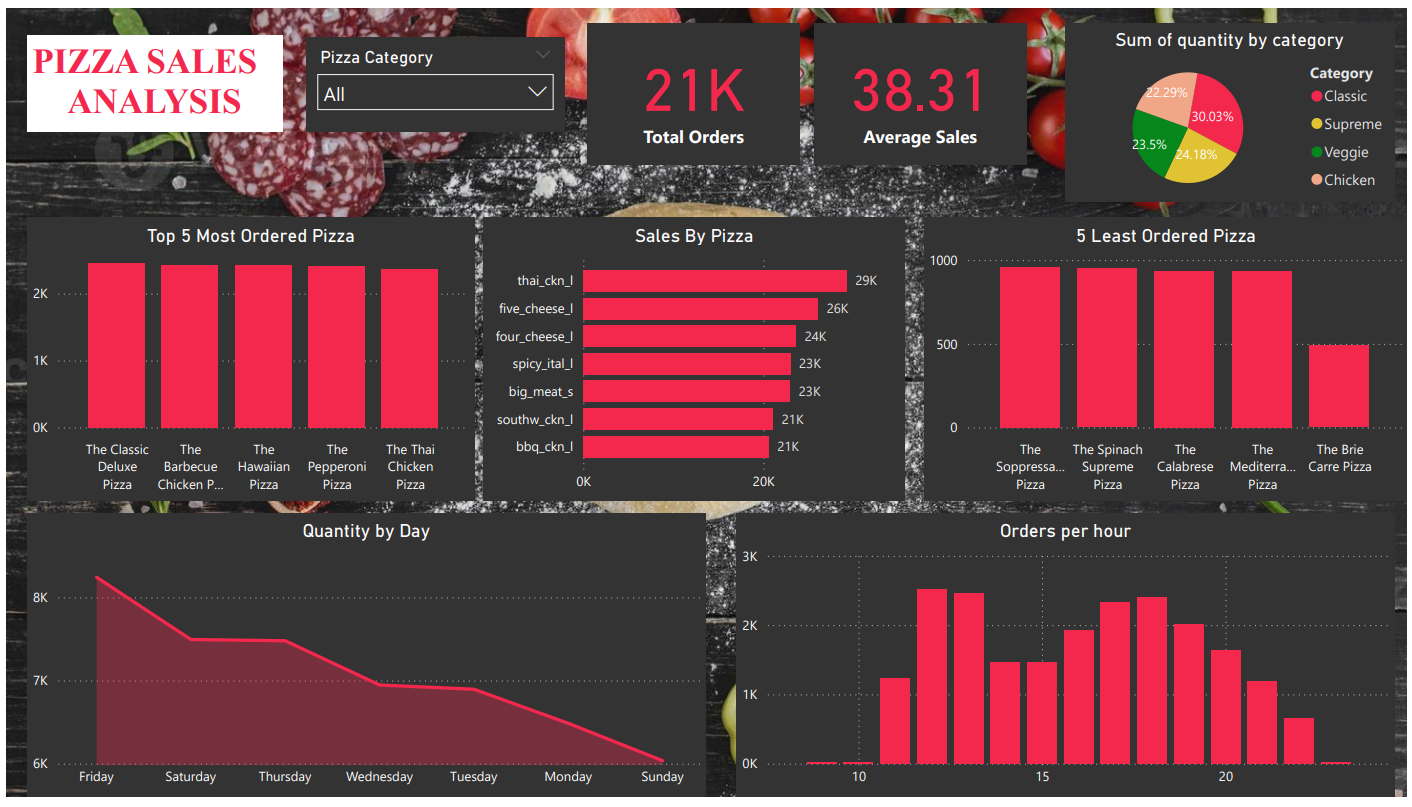

The page's visual inventory and layout, read from the dashboard file:
{"tool":"powerbi","page":{"name":"Page 1","canvas":[1280,720],"ordinal":0},"visuals":[{"type":"clusteredColumnChart","title":"Orders per hour","fields":{"Category":["orders.order_hour"],"Y":["Count(orders.order_id)"]},"box":[666.9,461.1,601,259.3],"z":0},{"type":"stackedAreaChart","title":"Quantity by Day","fields":{"Category":["orders.day"],"Y":["Sum(order_details.quantity)"]},"box":[19.2,461.1,620.2,259.3],"z":1000},{"type":"card","fields":{"Values":["orders.Total_Orders"]},"box":[531,13.7,193.5,129],"z":2000},{"type":"clusteredColumnChart","title":"Top 5 Most Ordered Pizza","fields":{"Y":["order_details.Total_Orders_By_Pizza_Type"],"Category":["pizza_types.name"]},"box":[19.2,190.7,408.9,259.3],"z":3000},{"type":"clusteredColumnChart","title":"5 Least Ordered Pizza","fields":{"Y":["order_details.Total_Orders_By_Pizza_Type"],"Category":["pizza_types.name"]},"box":[838.4,190.7,441.9,259.3],"z":4000},{"type":"clusteredBarChart","title":"Sales By Pizza","fields":{"Category":["pizzas.pizza_id"],"Y":["order_details.Total_Sales_By_Pizza"]},"box":[436.4,190.7,384.2,259.3],"z":5000},{"type":"pieChart","fields":{"Category":["pizza_types.category"],"Y":["Sum(order_details.quantity)"]},"box":[967.4,13.7,300.5,163.3],"z":6000},{"type":"card","fields":{"Values":["order_details.Average_Sales"]},"box":[738.3,13.7,193.5,129],"z":7000},{"type":"slicer","fields":{"Values":["pizza_types.category"]},"box":[274.4,27.4,236,85.1],"z":8000},{"type":"textbox","box":[19.2,24.7,233.3,87.8],"z":9000}]}

Visuals, with their boxes in screenshot pixels (x1, y1, x2, y2), scaled from the page's 1280x720 canvas onto the 1412x807 screenshot:
"Orders per hour" clusteredColumnChart: 736:517:1399:806
"Quantity by Day" stackedAreaChart: 21:517:705:806
card - orders.Total_Orders: 586:15:799:160
"Top 5 Most Ordered Pizza" clusteredColumnChart: 21:214:472:504
"5 Least Ordered Pizza" clusteredColumnChart: 925:214:1411:504
"Sales By Pizza" clusteredBarChart: 481:214:905:504
pieChart - pizza_types.category x Sum(order_details.quantity): 1067:15:1399:198
card - order_details.Average_Sales: 814:15:1028:160
slicer - pizza_types.category: 303:31:563:126
textbox: 21:28:279:126
